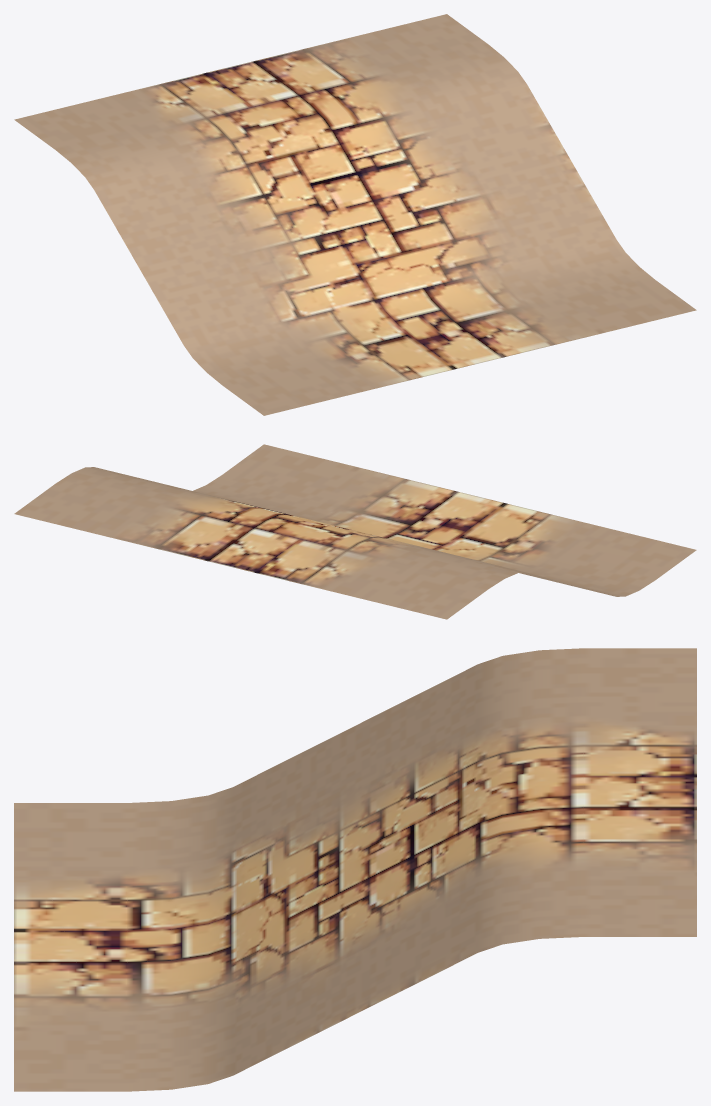
The model's file is tilesRamp.fbx.
The picture shows the model from 3 angles, top to bottom: view 1: azimuth 30°, elevation 25°; view 2: azimuth 150°, elevation 25°; view 3: azimuth 270°, elevation 25°; orthographic projection. The views are drawn at different scales.
Parts seen in each view (by area): view 1: edgeRamp; view 2: edgeRamp; view 3: edgeRamp.
Boxes of the visible parts, box(x1,y1,x2,y2) form: edgeRamp: box(14, 14, 696, 415); edgeRamp: box(14, 444, 696, 619); edgeRamp: box(14, 648, 696, 1091).
Size of the model in its own units: 100 by 25 by 100.
